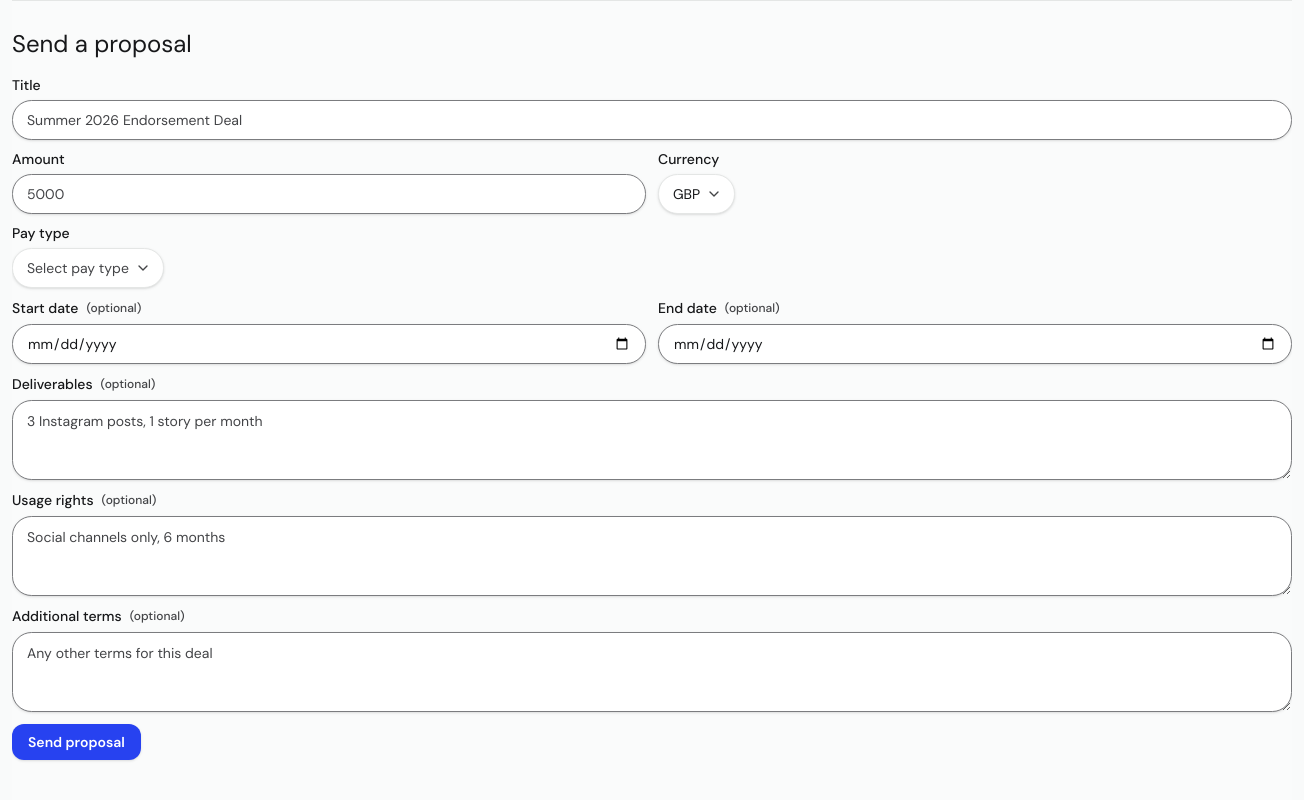
Test: ProposalForm › shows validation error when required fields are missing
Click the button "Send proposal": (76, 742) left=12, top=724, right=141, bottom=760
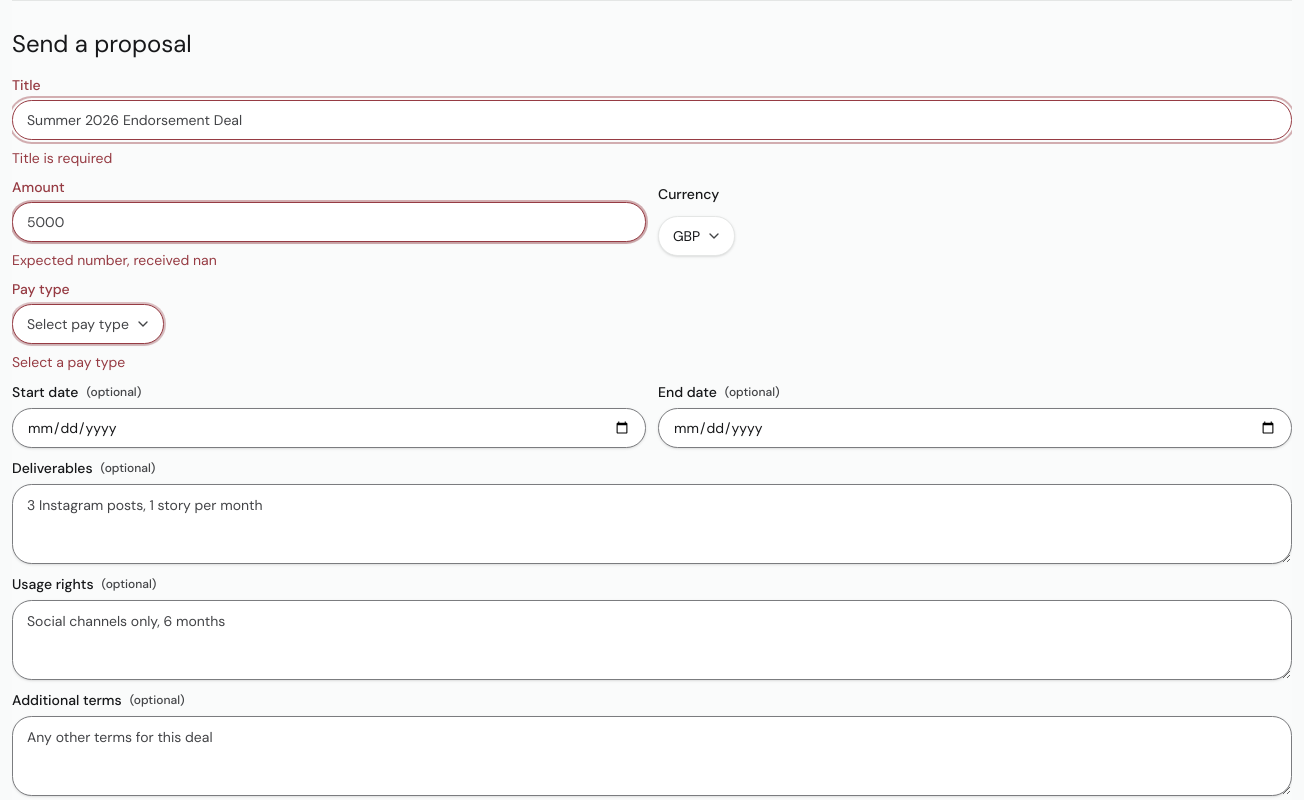
Now the text "Title is required" is shown, box left=12, top=149, right=112, bottom=167
